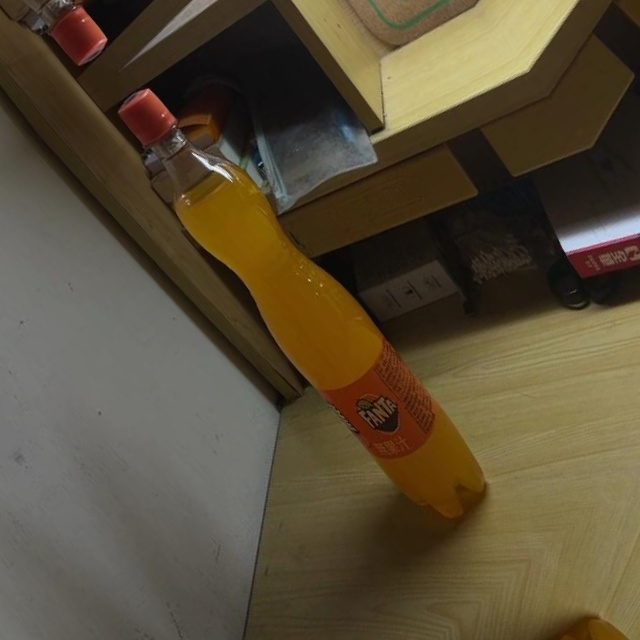Fanta: (92, 69, 507, 539)
